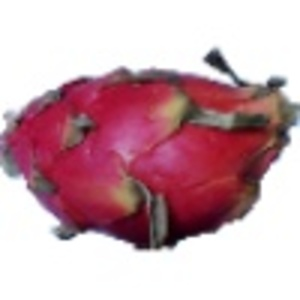pitaia: (1, 48, 300, 251)
